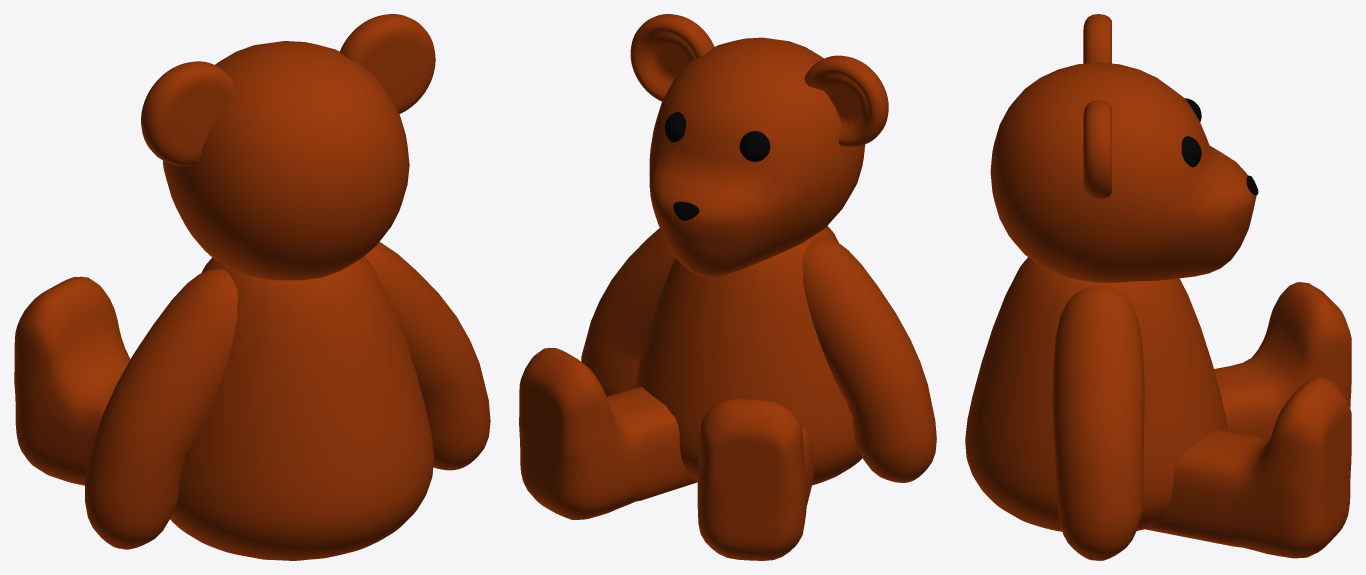
File: nallebjörn.fbx
3 views of the same model, side by side, from view 1: azimuth 30°, elevation 25°; view 2: azimuth 150°, elevation 25°; view 3: azimuth 270°, elevation 25° (orthographic). The views are drawn at different scales.
Parts seen in each view (by area): view 1: polySurface14; view 2: polySurface14; view 3: polySurface14.
Boxes of the visible parts, x1,y1,x2,y2 form: polySurface14: [14, 14, 490, 560]; polySurface14: [519, 14, 936, 560]; polySurface14: [965, 14, 1351, 560].
Bounding box in the file's own units: 0.6497 × 0.7662 × 0.6071.
